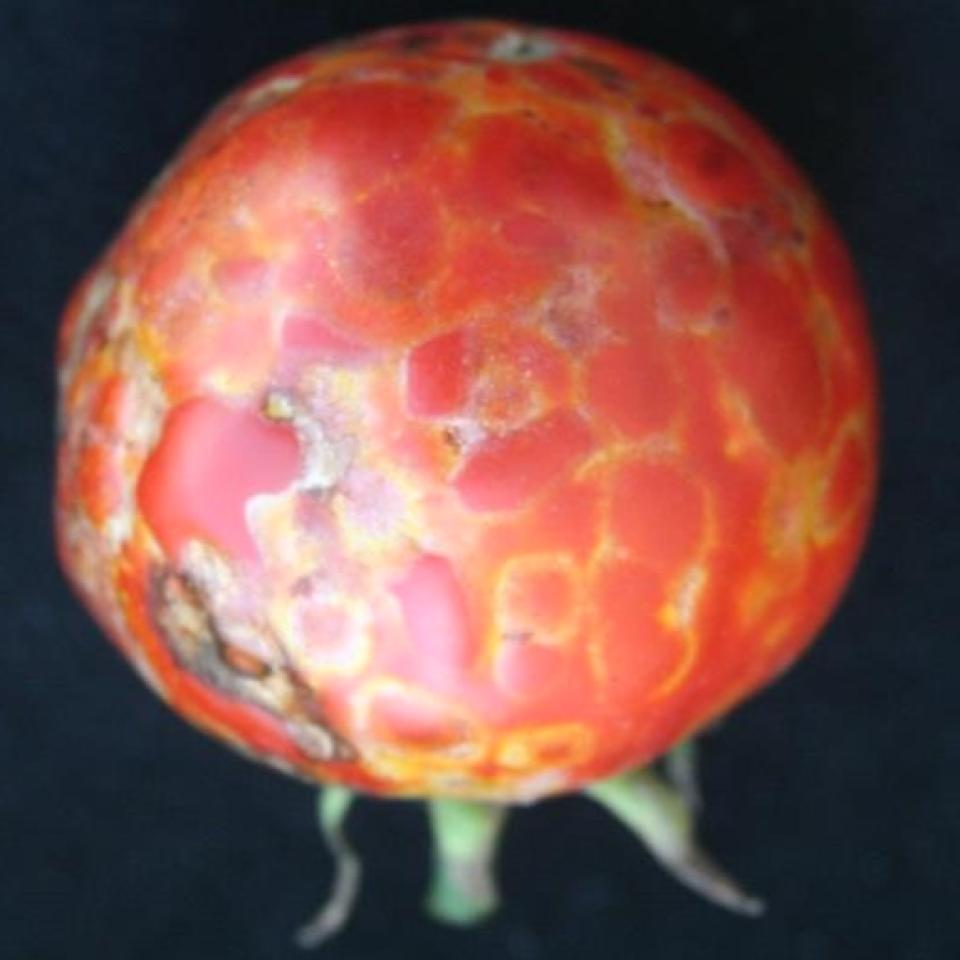Spotted wilt Virus: (55, 25, 879, 801)
